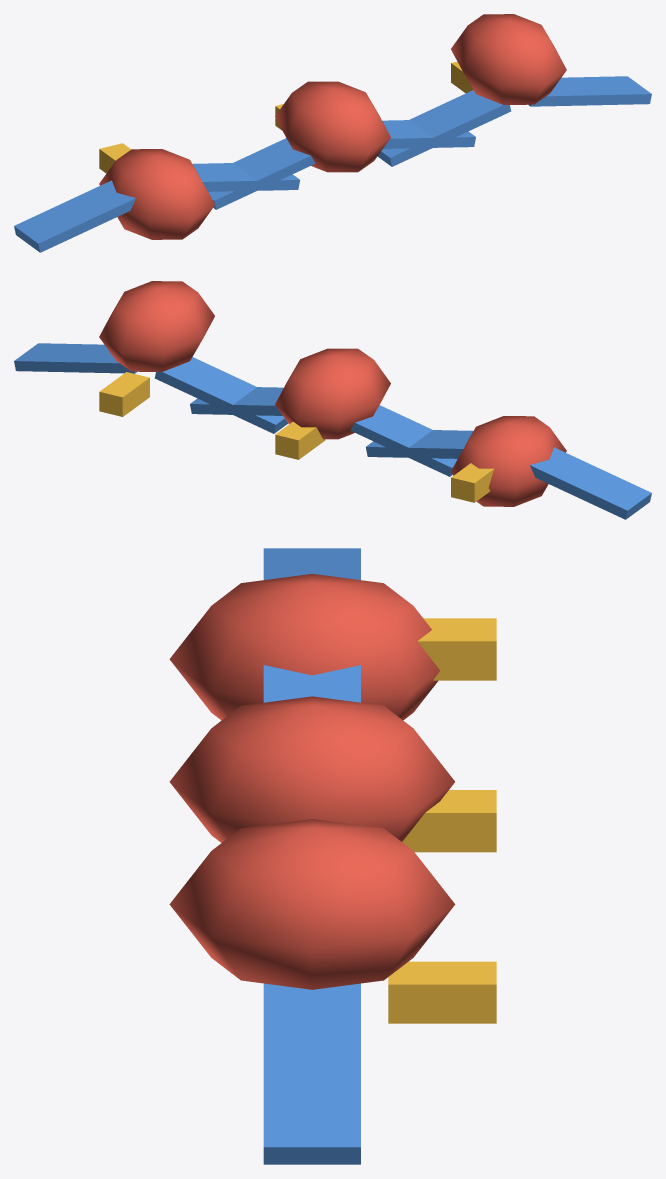
File: weaver_bird.glb
3 renders of one model, top to bottom at view 1: azimuth 30°, elevation 25°; view 2: azimuth 150°, elevation 25°; view 3: azimuth 270°, elevation 25°, orthographic. The views are drawn at different scales.
Visible parts, largest first — view 1: weaver_bird; view 2: weaver_bird; view 3: weaver_bird.
Boxes of the visible parts, x1,y1,x2,y2 form: weaver_bird: (14,14,651,252); weaver_bird: (14,281,651,519); weaver_bird: (169,548,496,1164).
Bounding box in the file's own units: 2.62 × 0.508 × 0.604.
